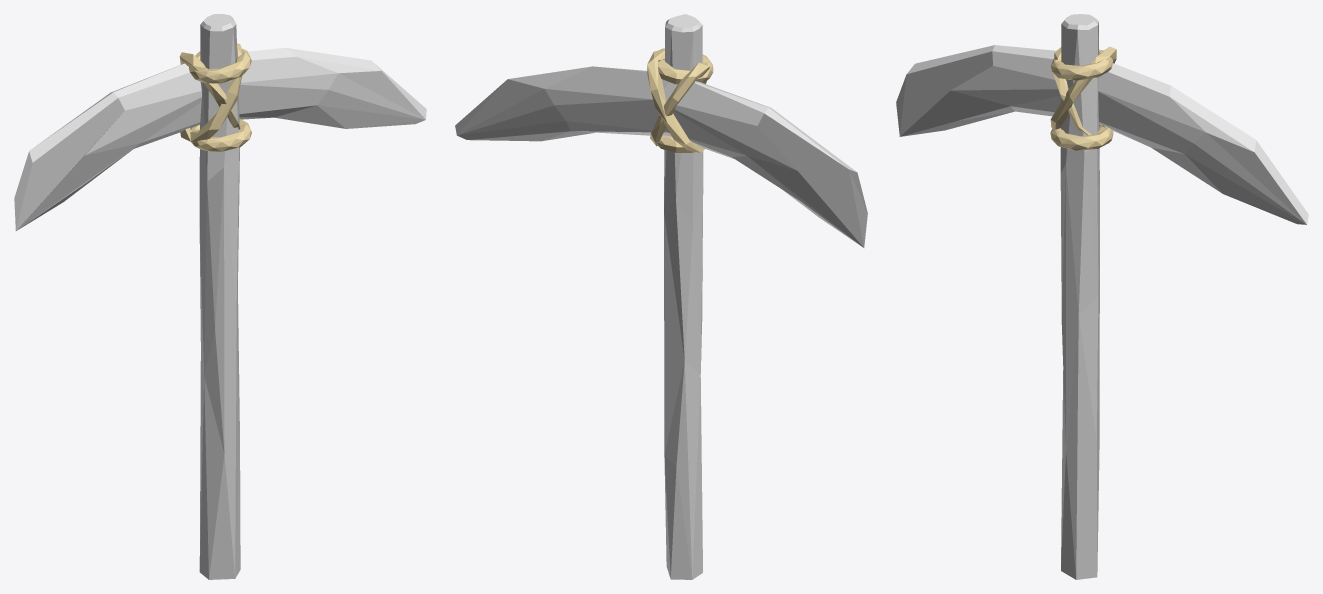
The model's file is Pickaxe.fbx.
The picture shows the model from 3 angles, left to right: view 1: azimuth 30°, elevation 25°; view 2: azimuth 150°, elevation 25°; view 3: azimuth 330°, elevation 25°; orthographic projection.
Parts seen in each view (by area): view 1: ベジエカーブ.001, 円柱, ベジエ円.003; view 2: ベジエカーブ.001, 円柱, ベジエ円.003; view 3: ベジエカーブ.001, 円柱, ベジエ円.003.
Part boxes in pixels (x1,y1,x2,y2): ベジエカーブ.001: (14,47,426,230); 円柱: (199,14,240,579); ベジエ円.003: (179,43,251,151); ベジエカーブ.001: (455,66,867,247); 円柱: (664,14,703,579); ベジエ円.003: (647,48,713,153); ベジエカーブ.001: (896,45,1308,224); 円柱: (1060,14,1099,579); ベジエ円.003: (1050,46,1116,150).
Bounding box in the file's own units: 934 × 1196 × 151.
